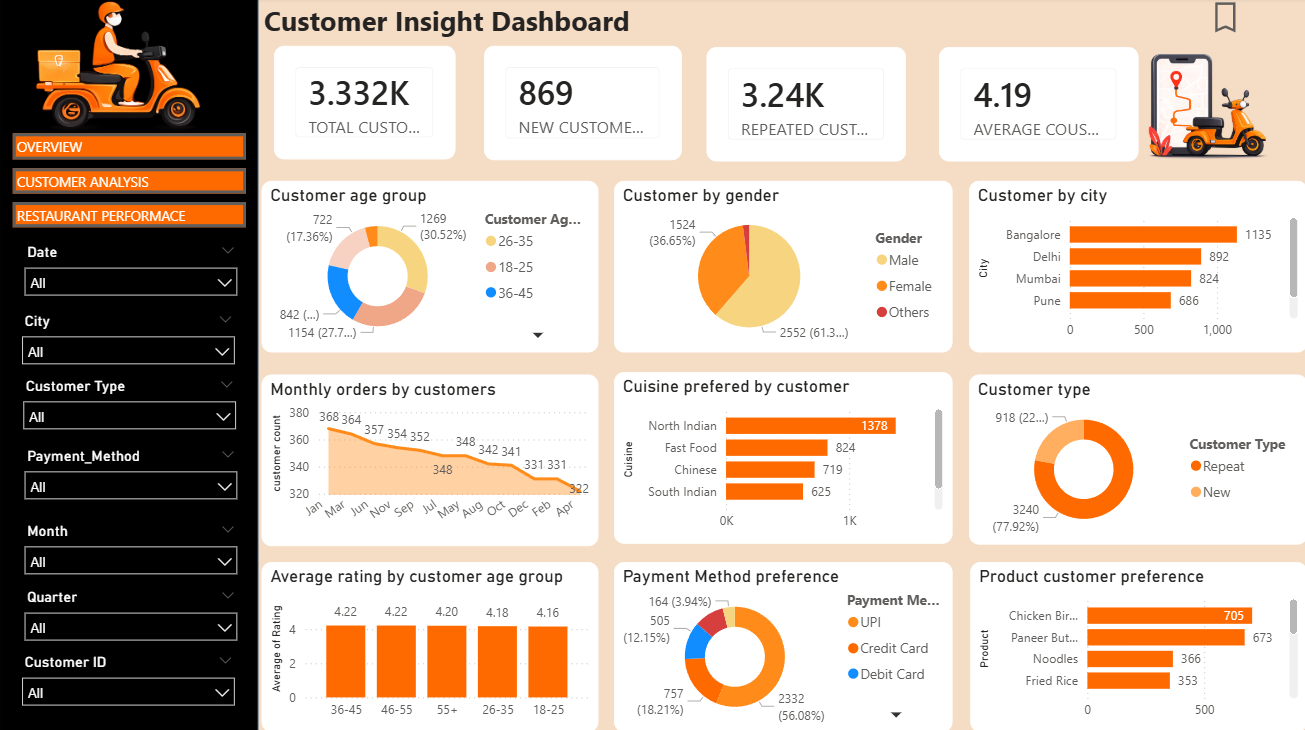

This screenshot's page, from the dashboard's own definition file:
{"tool":"powerbi","page":{"name":"Page 2","canvas":[1280,720],"ordinal":1},"visuals":[{"type":"shape","box":[0,0,253.9,720.4],"z":0},{"type":"image","box":[25.9,0,184,133.3],"z":1000},{"type":"actionButton","title":"OVERVIEW","box":[13.6,133.3,228.4,25.9],"z":2000},{"type":"actionButton","title":"OVERVIEW","box":[13.6,167.9,228.4,24.7],"z":3000},{"type":"actionButton","title":"OVERVIEW","box":[13.6,200,228.4,24.7],"z":4000},{"type":"slicer","fields":{"Values":["Orders.Order_Date"]},"box":[14.8,235.8,228.4,56.8],"z":5000},{"type":"textbox","box":[254.3,0,404.9,54.3],"z":6000},{"type":"cardVisual","fields":{"Data":["Count(Orders.Customer_ID)"]},"box":[269.1,48.1,177.8,111.1],"z":7000},{"type":"cardVisual","fields":{"Data":["Count(Orders.Customer_ID)"]},"box":[474.1,48.1,193.8,112.3],"z":8000},{"type":"cardVisual","fields":{"Data":["CountNonNull(Orders.Customer_ID)"]},"box":[692.6,49.4,195.1,112.3],"z":9000},{"type":"cardVisual","fields":{"Data":["Avg(Orders.Rating)"]},"box":[919.8,49.4,195.1,112.3],"z":10000},{"type":"areaChart","title":"Monthly orders by customers","fields":{"Category":["Orders.Month"],"Y":["CountNonNull(Orders.Customer_ID)"]},"box":[256.8,369.1,329.6,167.9],"z":11000},{"type":"pieChart","title":"Customer by gender","fields":{"Category":["Orders.Gender"],"Y":["CountNonNull(Orders.Customer_ID)"]},"box":[601.2,180.2,330.9,167.9],"z":12000},{"type":"donutChart","title":"Customer age group","fields":{"Category":["Orders.Customer_Age_Group"],"Y":["CountNonNull(Orders.Customer_ID)"]},"box":[256.8,180.2,329.6,167.9],"z":13000},{"type":"clusteredBarChart","title":"Cuisine prefered by customer","fields":{"Y":["CountNonNull(Orders.Customer_ID)"],"Category":["Orders.Cuisine"]},"box":[601.2,366.7,330.9,167.9],"z":14000},{"type":"donutChart","title":"Customer type","fields":{"Y":["CountNonNull(Orders.Order_ID)"],"Category":["Orders.Customer_Type"]},"box":[949.1,369.1,330.9,166.7],"z":15000},{"type":"columnChart","title":"Average rating by customer age group","fields":{"Category":["Orders.Customer_Age_Group"],"Y":["Avg(Orders.Rating)"]},"box":[256.8,553.1,329.6,166.7],"z":16000},{"type":"donutChart","title":"Payment Method preference","fields":{"Y":["CountNonNull(Orders.Customer_ID)"],"Category":["Orders.Payment_Method"]},"box":[601.2,553.1,330.9,166.7],"z":17000},{"type":"clusteredBarChart","title":"Product customer preference","fields":{"Category":["Orders.Product"],"Y":["CountNonNull(Orders.Customer_ID)"]},"box":[950.6,553.1,329.6,166.7],"z":18000},{"type":"slicer","fields":{"Values":["Orders.City"]},"box":[12.3,303.7,228.4,56.8],"z":19000},{"type":"slicer","fields":{"Values":["Orders.Customer_Type"]},"box":[13.6,366.7,228.4,56.8],"z":20000},{"type":"slicer","fields":{"Values":["Orders.Payment_Method"]},"box":[14.8,435.8,228.4,56.8],"z":21000},{"type":"slicer","fields":{"Values":["Orders.Month"]},"box":[14.8,508.6,228.4,56.8],"z":22000},{"type":"slicer","fields":{"Values":["Orders.Quarter"]},"box":[14.8,574.1,228.4,63],"z":23000},{"type":"image","box":[1086.2,50.6,193.8,111.1],"z":24000},{"type":"clusteredBarChart","title":"Customer by city","fields":{"Y":["CountNonNull(Orders.Customer_ID)"],"Category":["Orders.City"]},"box":[949.4,180.2,330.9,167.9],"z":25000},{"type":"actionButton","box":[1180.2,0,100,39.5],"z":26000},{"type":"slicer","fields":{"Values":["Orders.Customer_ID"]},"box":[12.3,637,228.4,63],"z":27000}]}

Visuals, with their boxes in screenshot pixels (x1, y1, x2, y2), scaled from the page's 1280x720 canvas onto the 1305x730 screenshot:
shape: box=[0, 0, 259, 729]
image: box=[26, 0, 214, 135]
"OVERVIEW" actionButton: box=[14, 135, 247, 161]
"OVERVIEW" actionButton: box=[14, 170, 247, 195]
"OVERVIEW" actionButton: box=[14, 203, 247, 228]
slicer - Orders.Order_Date: box=[15, 239, 248, 297]
textbox: box=[259, 0, 672, 55]
cardVisual - Count(Orders.Customer_ID): box=[274, 49, 456, 161]
cardVisual - Count(Orders.Customer_ID): box=[483, 49, 681, 163]
cardVisual - CountNonNull(Orders.Customer_ID): box=[706, 50, 905, 164]
cardVisual - Avg(Orders.Rating): box=[938, 50, 1137, 164]
"Monthly orders by customers" areaChart: box=[262, 374, 598, 544]
"Customer by gender" pieChart: box=[613, 183, 950, 353]
"Customer age group" donutChart: box=[262, 183, 598, 353]
"Cuisine prefered by customer" clusteredBarChart: box=[613, 372, 950, 542]
"Customer type" donutChart: box=[968, 374, 1304, 543]
"Average rating by customer age group" columnChart: box=[262, 561, 598, 729]
"Payment Method preference" donutChart: box=[613, 561, 950, 729]
"Product customer preference" clusteredBarChart: box=[969, 561, 1304, 729]
slicer - Orders.City: box=[13, 308, 245, 366]
slicer - Orders.Customer_Type: box=[14, 372, 247, 429]
slicer - Orders.Payment_Method: box=[15, 442, 248, 499]
slicer - Orders.Month: box=[15, 516, 248, 573]
slicer - Orders.Quarter: box=[15, 582, 248, 646]
image: box=[1107, 51, 1304, 164]
"Customer by city" clusteredBarChart: box=[968, 183, 1304, 353]
actionButton: box=[1203, 0, 1304, 40]
slicer - Orders.Customer_ID: box=[13, 646, 245, 710]
